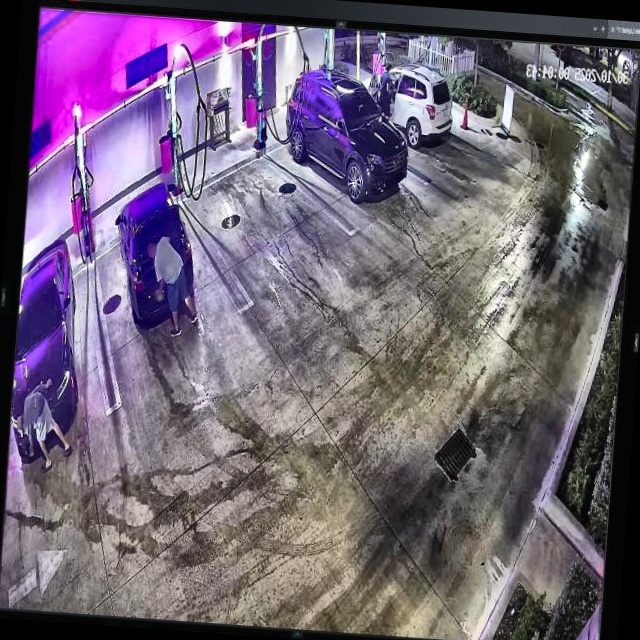Car: (280, 67, 413, 204), (109, 179, 201, 328), (355, 61, 456, 145)
